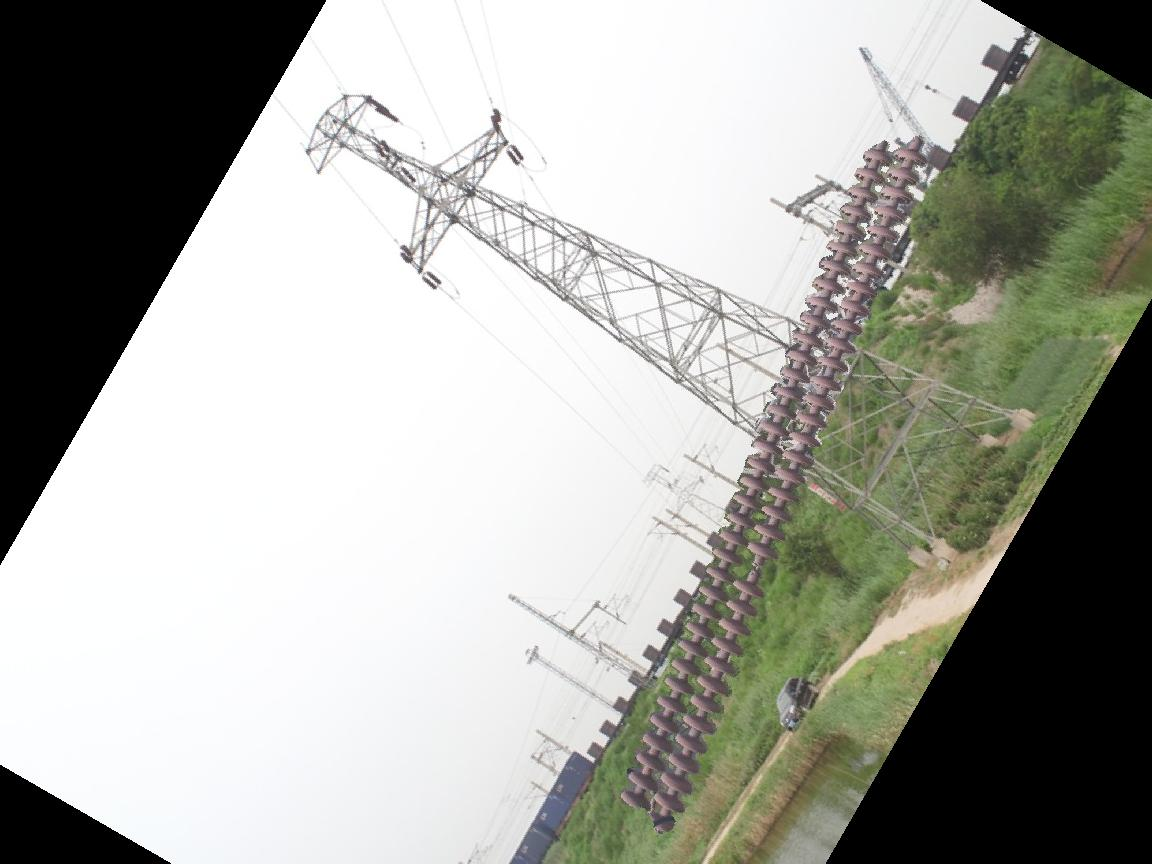insulator: (617, 139, 930, 836)
insulator_stringdrop: (730, 537, 780, 602)
